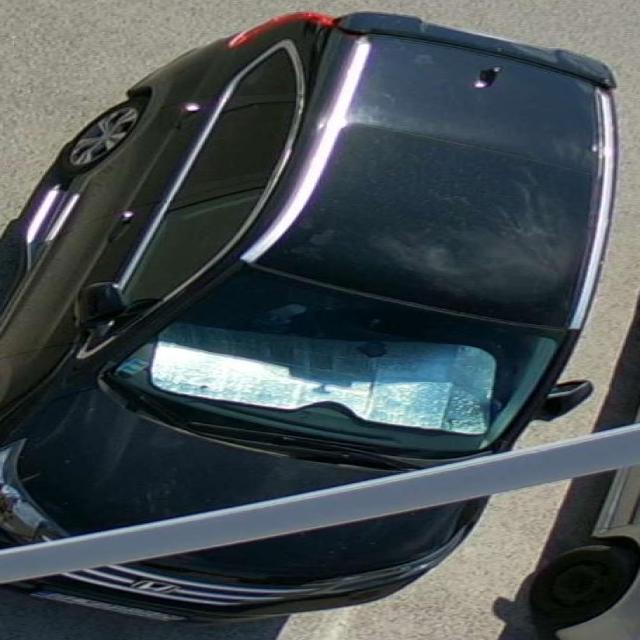Car: (84, 52, 520, 636)
